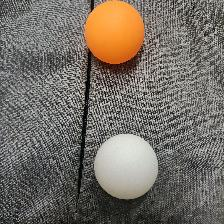WhiteBall: (93, 133, 158, 200)
YellowBall: (83, 1, 144, 64)
